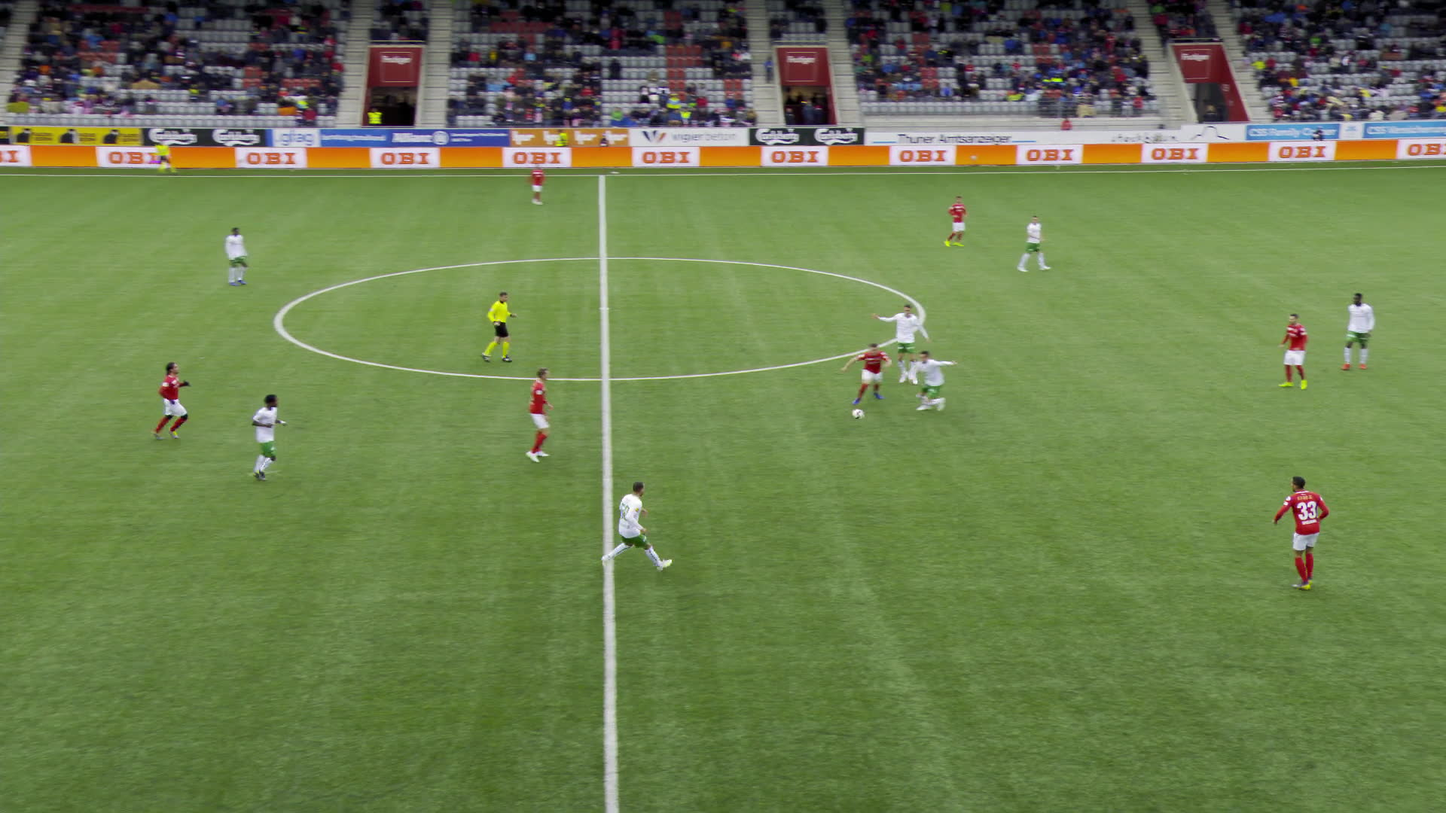ball: (852, 406, 869, 422)
player: (1271, 473, 1332, 590), (604, 478, 669, 577), (868, 303, 933, 385), (246, 394, 293, 483), (155, 361, 197, 442), (524, 367, 558, 464), (1338, 291, 1378, 372), (907, 349, 956, 413), (848, 341, 895, 406), (1276, 312, 1313, 391), (1019, 214, 1052, 273), (226, 225, 255, 288), (943, 195, 971, 248), (529, 161, 550, 206)
referee: (483, 291, 520, 364), (156, 136, 181, 175)
